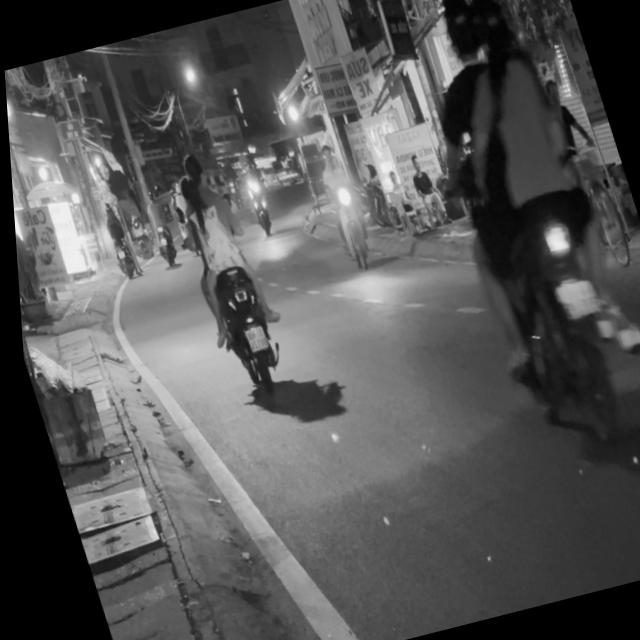helmet: (464, 0, 524, 70), (434, 0, 491, 68)
licenseplate: (390, 0, 640, 487), (153, 138, 295, 404)
motorcyclist: (174, 173, 204, 214), (176, 148, 206, 186)
nohelmet: (550, 274, 599, 318), (238, 324, 265, 352)
